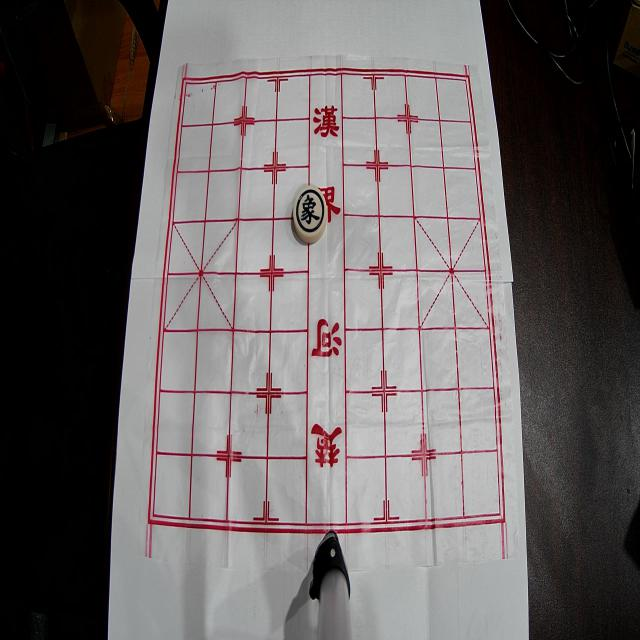black-elephant: (293, 185, 327, 243)
